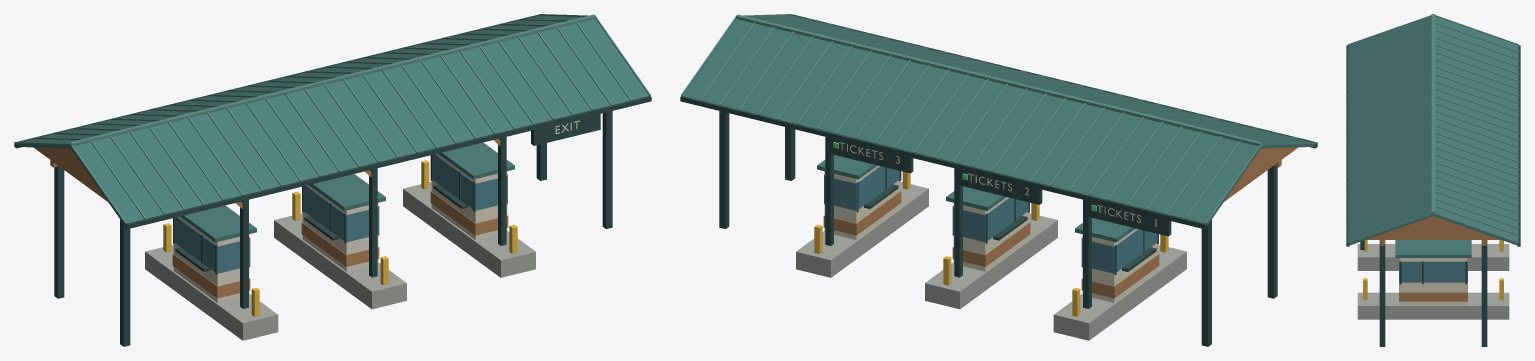
Rendered from ferry_ticket_plaza.glb.
3 views of the same model, side by side, from view 1: azimuth 30°, elevation 25°; view 2: azimuth 150°, elevation 25°; view 3: azimuth 270°, elevation 25° (orthographic). The views are drawn at different scales.
Parts seen in each view (by area): view 1: ferry_ticket_plaza; view 2: ferry_ticket_plaza; view 3: ferry_ticket_plaza.
Part boxes in pixels (x1,y1,x2,y2): ferry_ticket_plaza: (14,14,651,346); ferry_ticket_plaza: (680,14,1317,346); ferry_ticket_plaza: (1346,14,1520,346).
Bounding box in the file's own units: 24.45 × 8.53 × 9.08.
